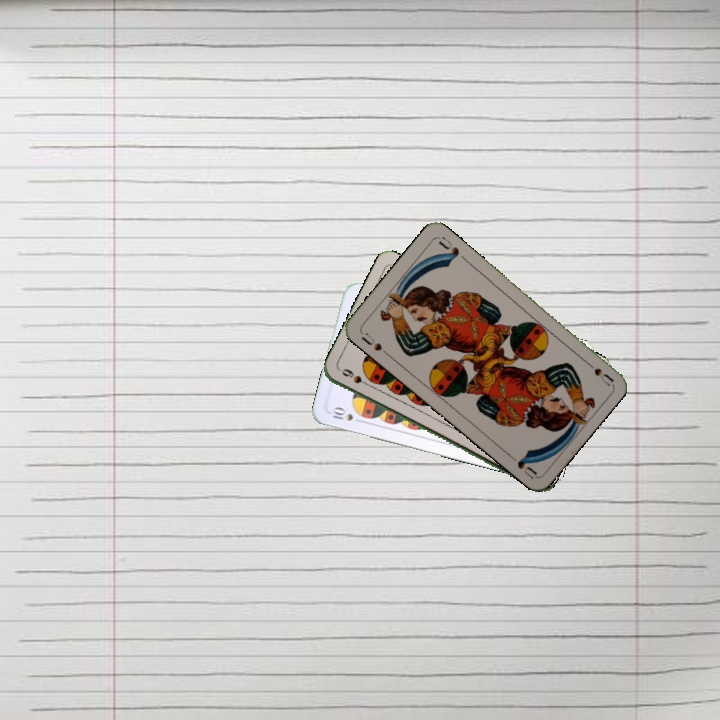S10: (328, 404, 366, 425)
S9: (338, 366, 375, 390)
SU: (579, 355, 615, 388), (358, 329, 391, 358)
